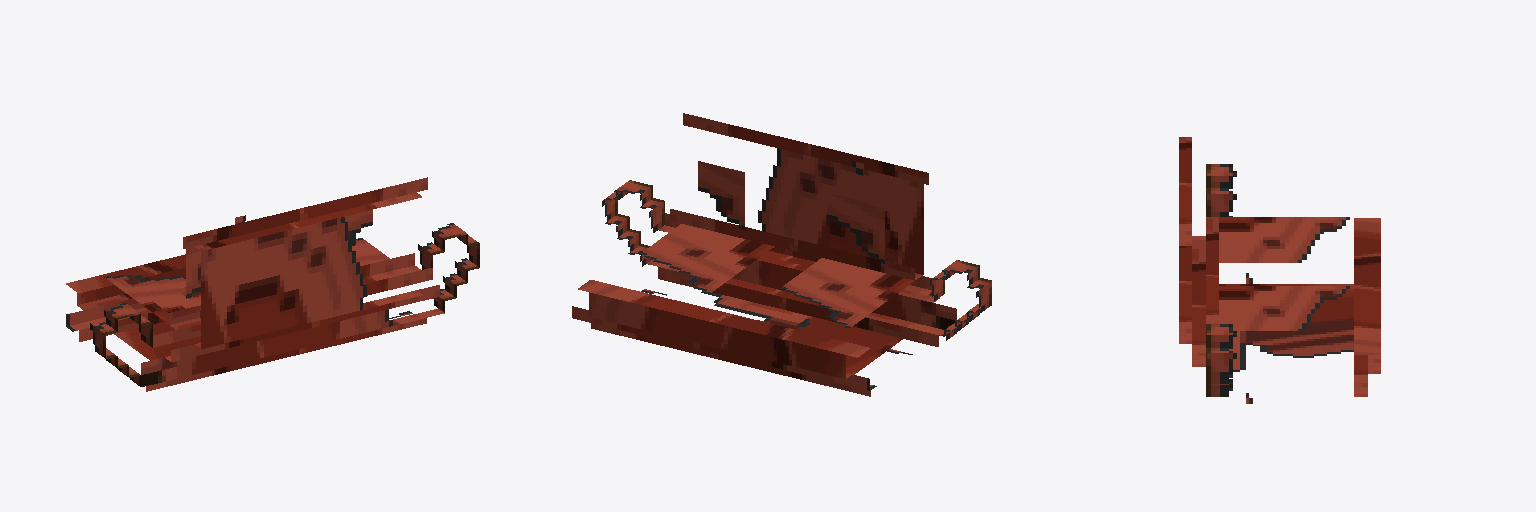
3 renders of one model, left to right at view 1: azimuth 30°, elevation 25°; view 2: azimuth 150°, elevation 25°; view 3: azimuth 270°, elevation 25°, orthographic.
Visible parts, largest first — view 1: Model; view 2: Model; view 3: Model.
Part boxes in pixels (x1,y1,x2,y2): Model: (66,177,479,391); Model: (572,113,991,396); Model: (1179,137,1380,403).
Bounding box in the file's own units: 32 × 15 × 15.
Materials: 1 (1 with a texture image).